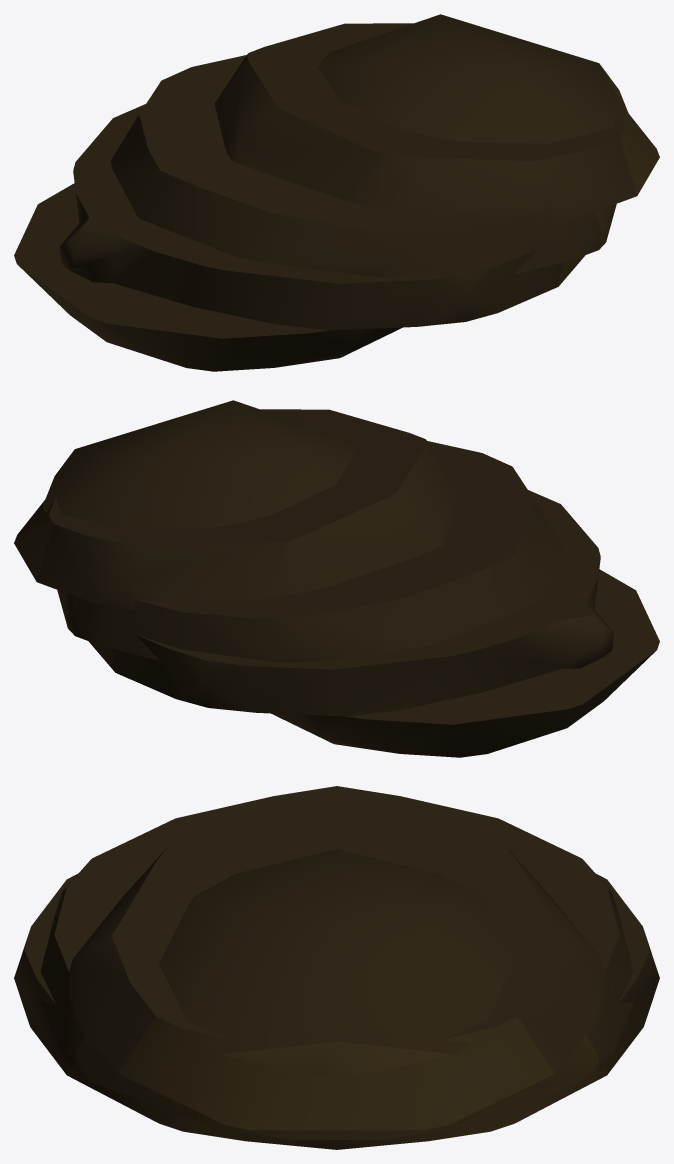
File: OnionChoppedBurnt.glb
The picture shows the model from 3 angles, top to bottom: view 1: azimuth 30°, elevation 25°; view 2: azimuth 150°, elevation 25°; view 3: azimuth 270°, elevation 25°; orthographic projection. The views are drawn at different scales.
Visible parts, largest first — view 1: Icosphere.021; view 2: Icosphere.021; view 3: Icosphere.021.
Part boxes in pixels (box(x1,y1,x2,y2)): Icosphere.021: box(14, 14, 659, 371); Icosphere.021: box(14, 400, 659, 757); Icosphere.021: box(14, 786, 659, 1149).
Size of the model in its own units: 0.6651 by 0.2172 by 0.5495.
